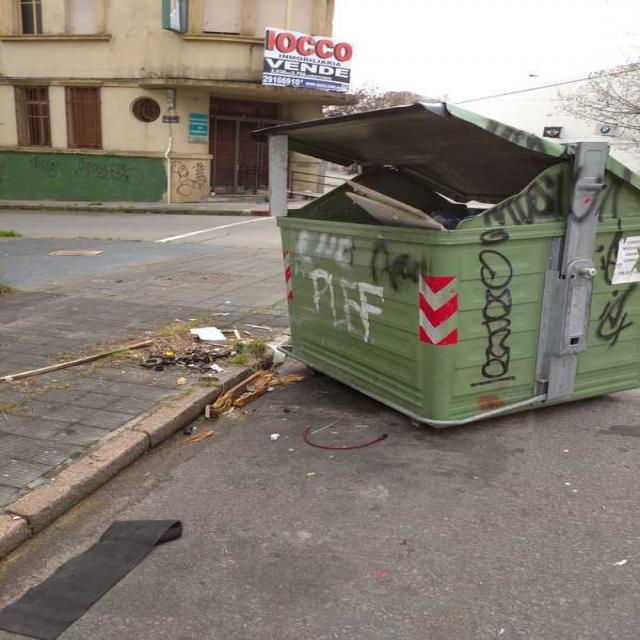garbage: (328, 162, 506, 226)
